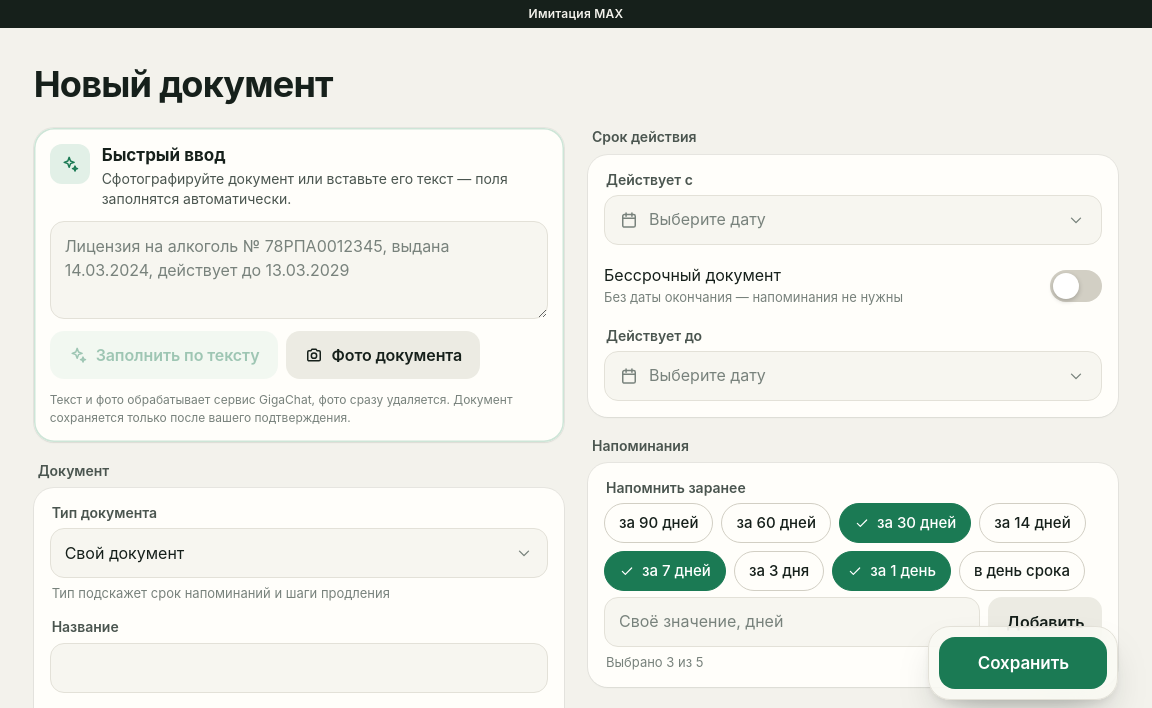
Test: T-FE-LLM: быстрый ввод документа по тексту (FR-21) › текст без реквизитов — понятная причина вместо общей ошибки
Type "привет" into the text box named "Текст документа для распознавания". click: (299, 270)
box: [51,222,547,318]
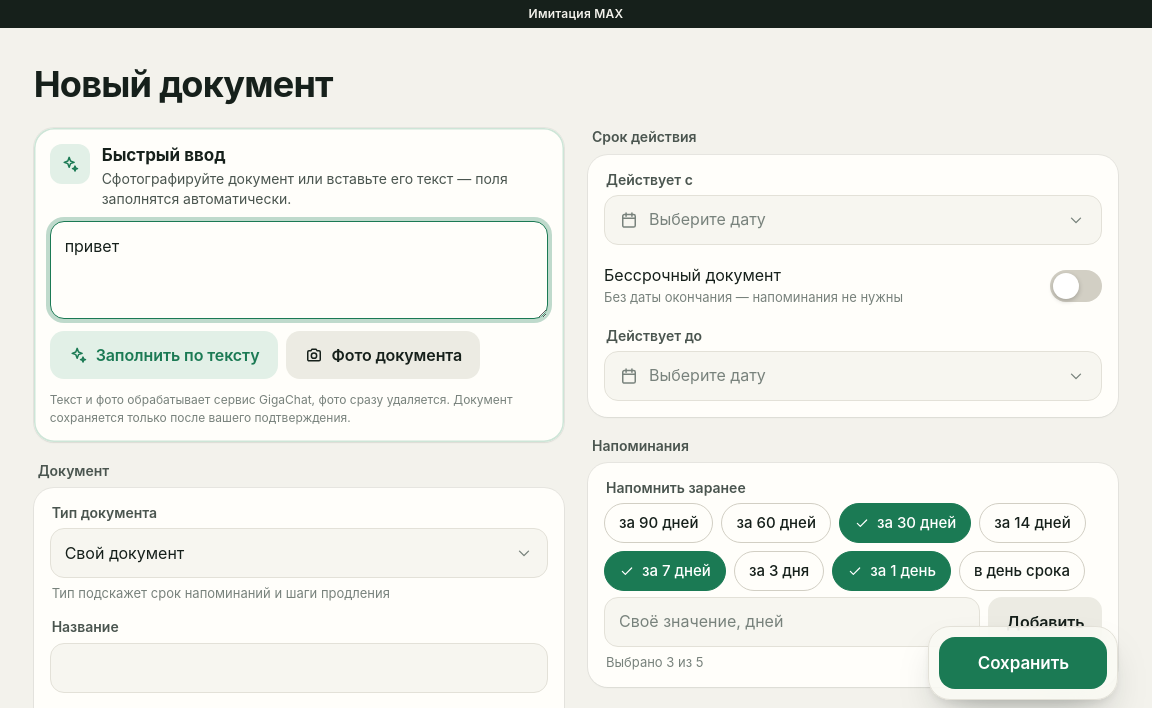
Click the button "Заполнить по тексту". click: (164, 355)
box: [50,331,278,379]
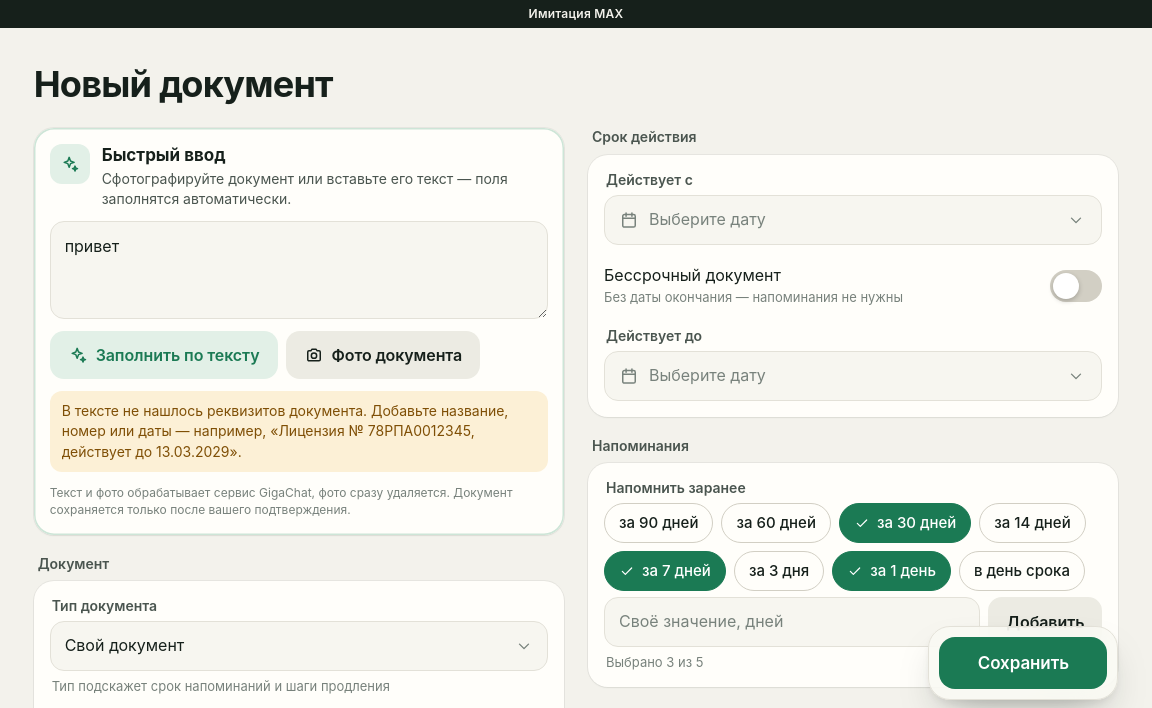
Check: the text "В тексте не нашлось реквизитов документа" is shown, box [62,402,508,460]
